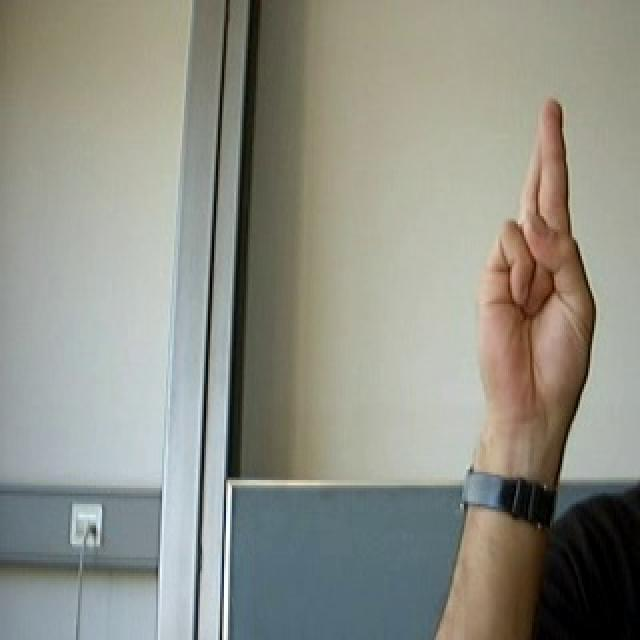R: (470, 89, 601, 433)
